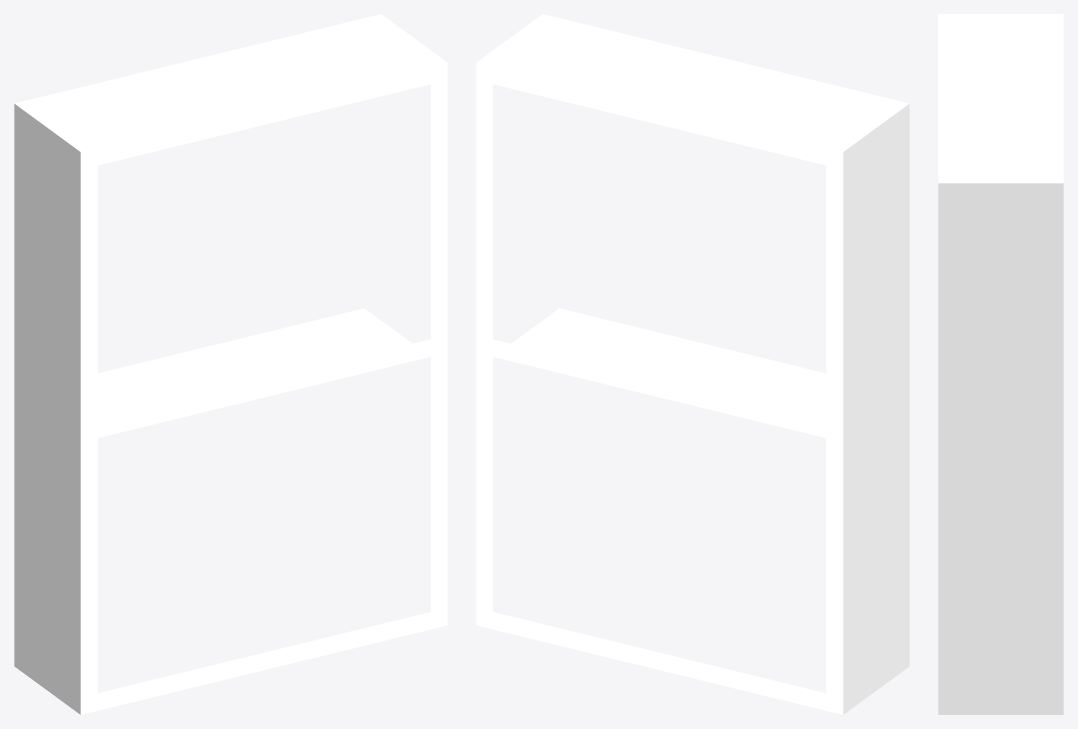
3 views of the same model, side by side, from view 1: azimuth 30°, elevation 25°; view 2: azimuth 150°, elevation 25°; view 3: azimuth 270°, elevation 25° (orthographic). The views are drawn at different scales.
Parts seen in each view (by area): view 1: 8_AlphaProta_White; view 2: 8_AlphaProta_White; view 3: 8_AlphaProta_White.
Part boxes in pixels (x1=…): 8_AlphaProta_White: x1=14, y1=14, x2=447, y2=714; 8_AlphaProta_White: x1=476, y1=14, x2=909, y2=714; 8_AlphaProta_White: x1=938, y1=14, x2=1063, y2=714.
Size of what is drawn, in the model's own units: 0.1436 by 0.2105 by 0.045.
2 materials, 2 textured.
